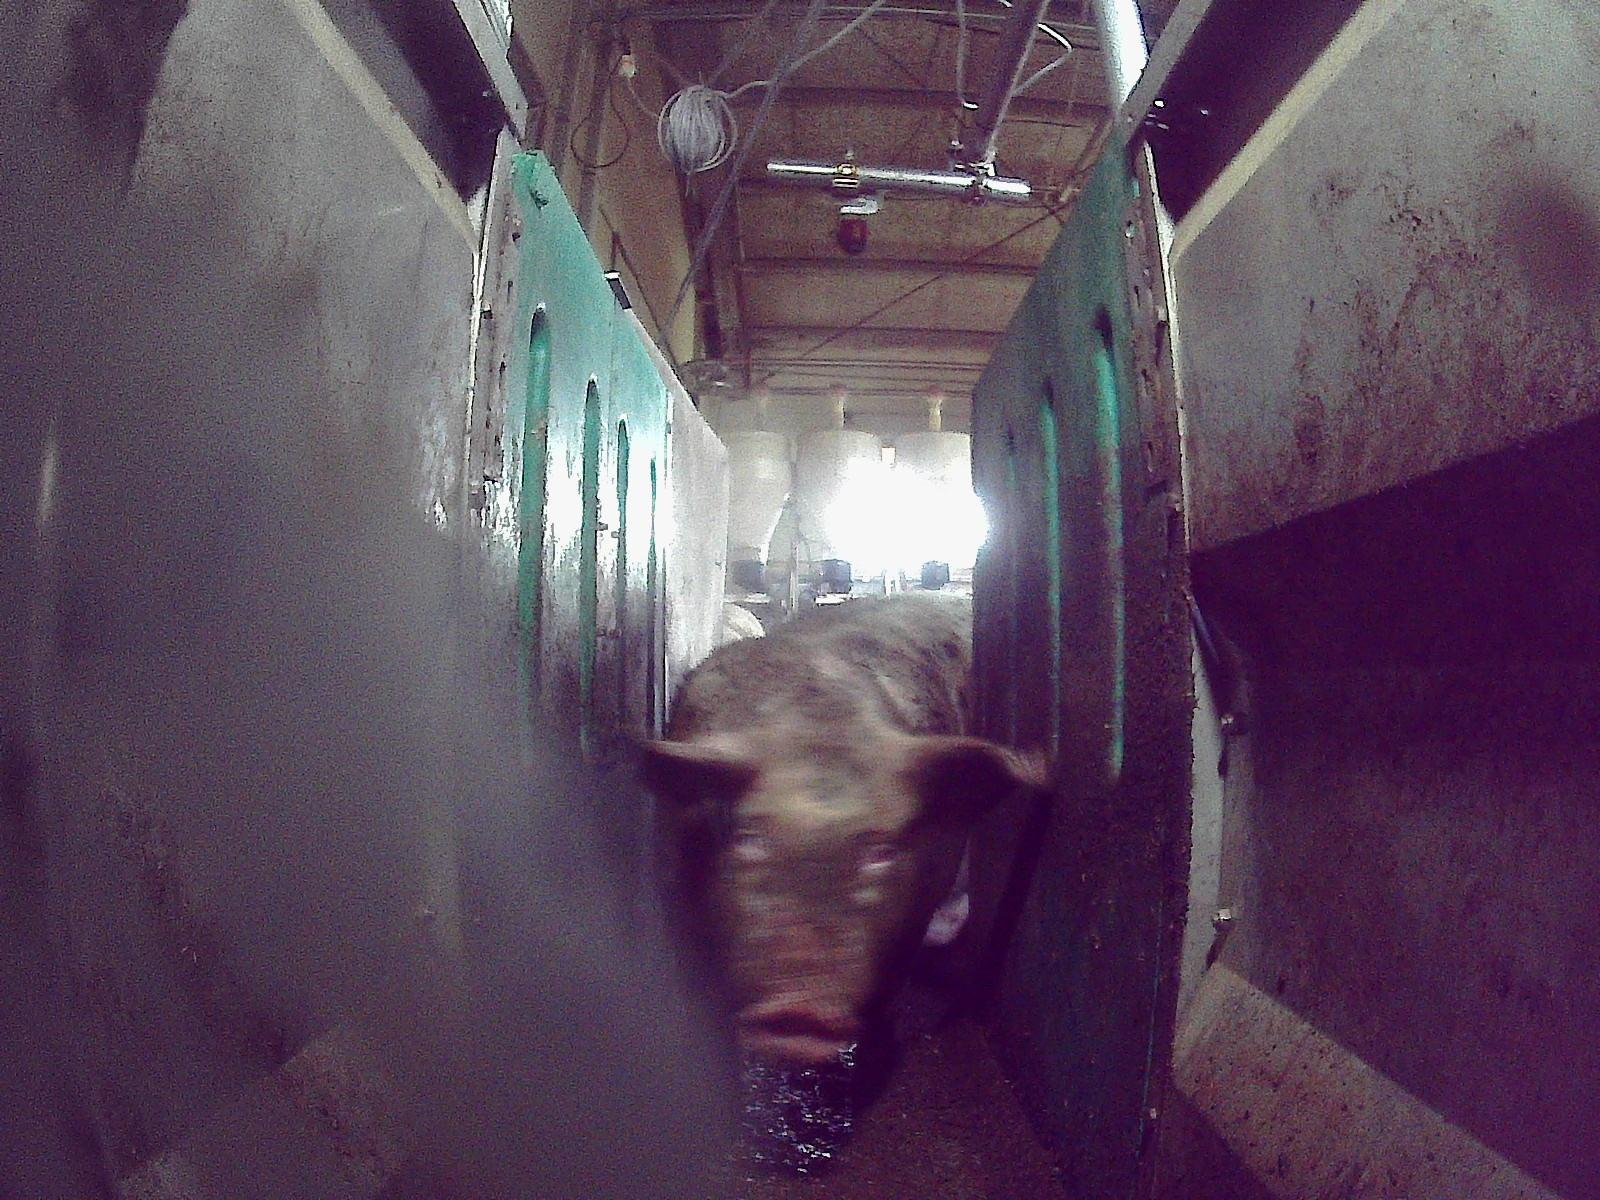Face: (686, 732, 933, 1066)
